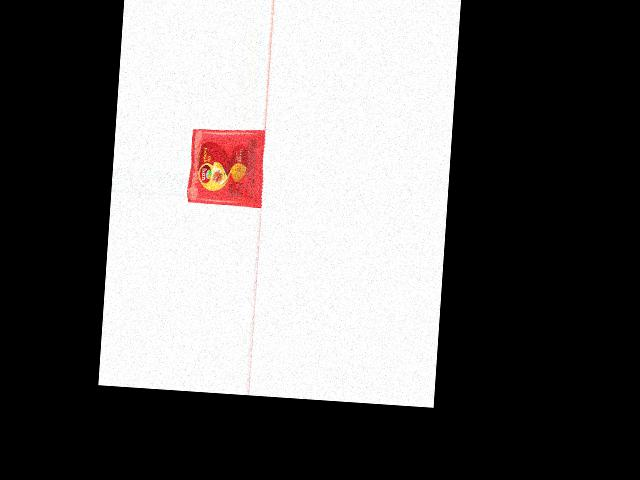cheese: (187, 128, 267, 208)
